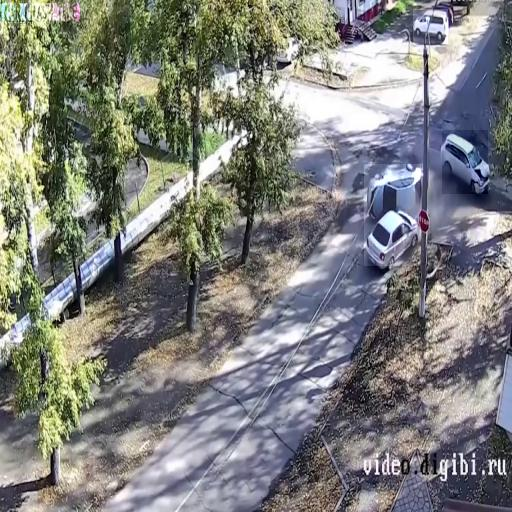小汽车: (442, 130, 488, 194), (413, 9, 448, 44)
小汽车撞小汽车: (364, 164, 421, 266)
